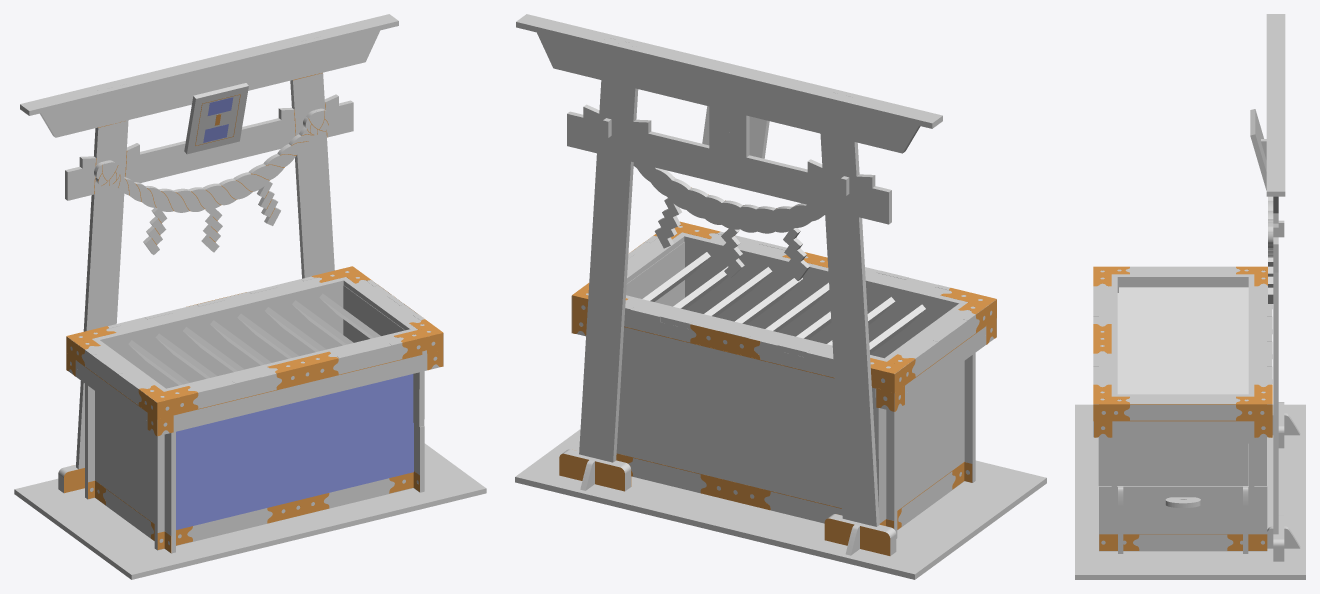
The model's file is saisenglb6.glb.
3 views of the same model, side by side, from view 1: azimuth 30°, elevation 25°; view 2: azimuth 150°, elevation 25°; view 3: azimuth 270°, elevation 25° (orthographic). The views are drawn at different scales.
Visible parts, largest first — view 1: 本体.014, 刻印３(大きな文字), 本体.040, 茶色, 本体.002, 本体.033, 本体.011, 本体.041, 本体.043, 本体.010, 本体.016, 本体.003 (+4 smaller); view 2: 本体.014, 本体.002, 本体.040, 茶色, 本体.003, 本体.011, 本体.033, 本体.034, 本体.041, 本体.010, 本体.016, 本体.045 (+2 smaller); view 3: 本体.016, 本体.040, 本体.013, 本体.012, 本体.033, 茶色, 本体.044, 本体.010, 本体.014, 本体.011, 本体.004, 本体.041 (+7 smaller).
Part boxes in pixels (<box>): 本体.014: <box>40,30,380,492</box>; 刻印３(大きな文字): <box>176,374,413,529</box>; 本体.040: <box>14,443,486,579</box>; 茶色: <box>64,73,443,552</box>; 本体.002: <box>75,285,343,499</box>; 本体.033: <box>68,271,443,402</box>; 本体.011: <box>95,391,178,553</box>; 本体.041: <box>94,108,330,254</box>; 本体.043: <box>157,338,443,435</box>; 本体.010: <box>20,14,398,115</box>; 本体.016: <box>128,293,380,385</box>; 本体.003: <box>145,371,424,550</box>; 本体.014: <box>537,32,920,553</box>; 本体.002: <box>616,345,907,538</box>; 本体.040: <box>515,429,1046,579</box>; 茶色: <box>559,187,996,555</box>; 本体.003: <box>685,242,986,482</box>; 本体.011: <box>872,361,964,529</box>; 本体.033: <box>572,226,996,373</box>; 本体.034: <box>572,301,897,411</box>; 本体.041: <box>633,162,824,280</box>; 本体.010: <box>516,14,942,128</box>; 本体.016: <box>642,252,925,353</box>; 本体.045: <box>894,310,996,409</box>; 本体.016: <box>1117,287,1248,394</box>; 本体.040: <box>1075,404,1305,579</box>; 本体.013: <box>1099,484,1267,551</box>; 本体.012: <box>1098,437,1266,485</box>; 本体.033: <box>1093,266,1272,409</box>; 茶色: <box>1093,266,1272,550</box>; 本体.044: <box>1093,402,1266,437</box>; 本体.010: <box>1266,14,1285,196</box>; 本体.014: <box>1273,48,1278,561</box>; 本体.011: <box>1117,281,1248,292</box>; 本体.004: <box>1250,109,1266,190</box>; 本体.041: <box>1268,196,1273,303</box>.
Bounding box in the file's own units: 156 × 163 × 85.56.
